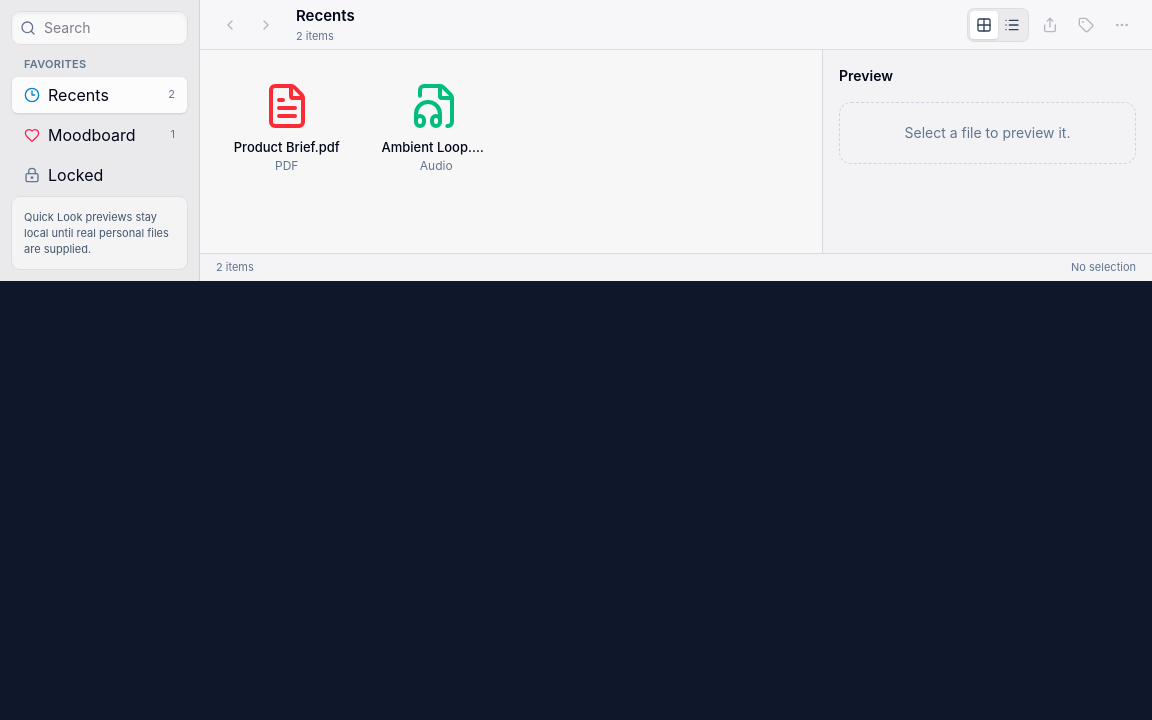
Test case: FinderApp › keeps the locked Hidden folder from revealing files
The width and height of the screenshot is (1152, 720).
Click the button "Locked" at (100, 174), box [12, 156, 187, 192]
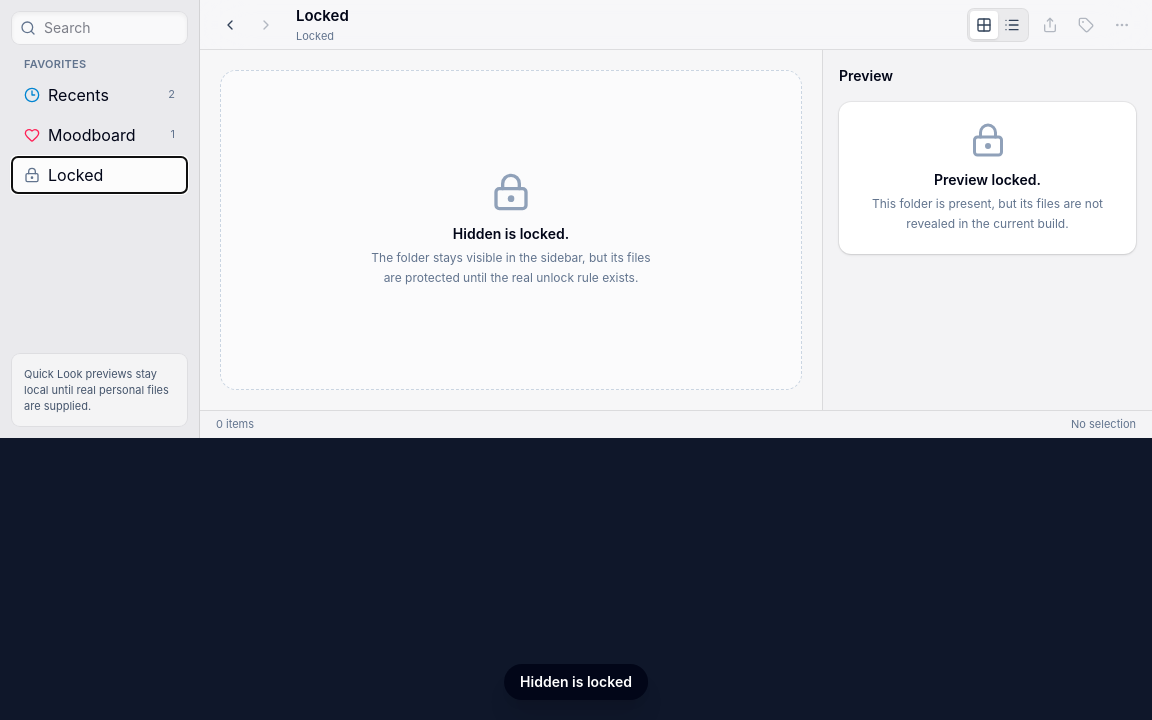
Expected: the text "Hidden is locked." is shown, [453, 225, 569, 242]
